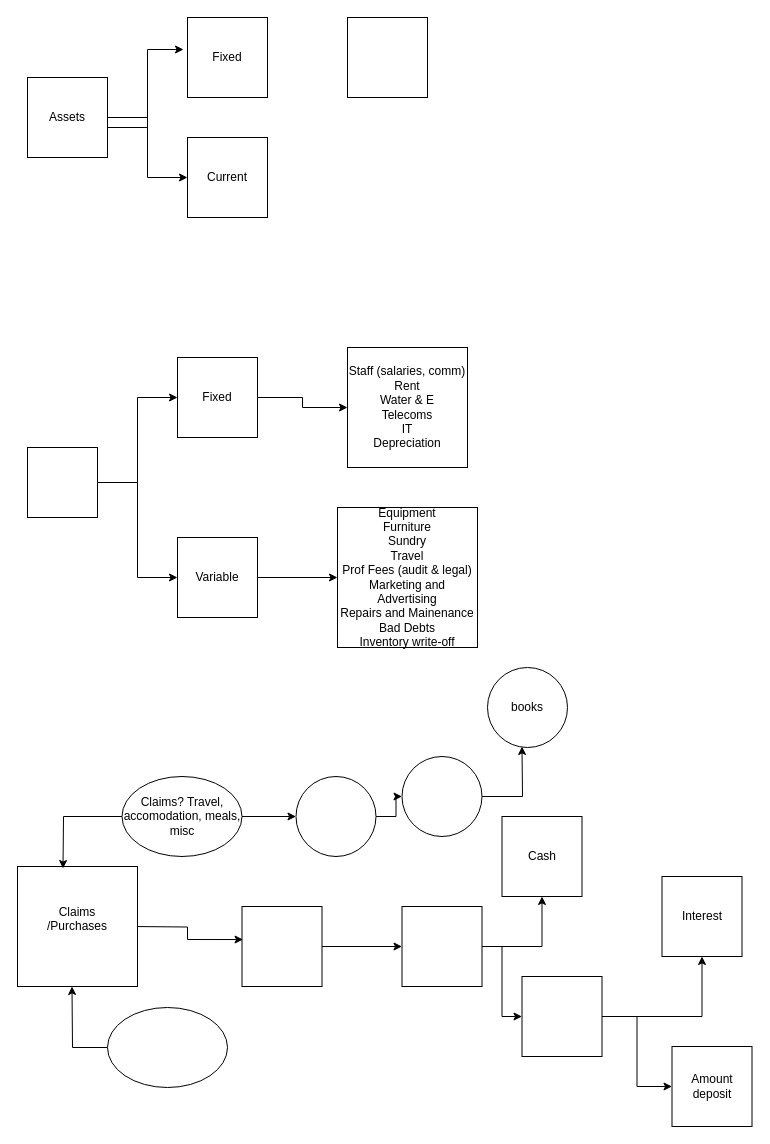
This 770x1144 diagram has some shape labels left out. Each missing label, with the centre of its shape:
"Approval" belongs at (335,816).
"How will you pay" belongs at (441,946).
"OPEX" belongs at (62,482).
"payment" belongs at (441,796).
"PPE" belongs at (387,57).
"Purchase request" belongs at (167,1047).
"What" belongs at (281,946).
